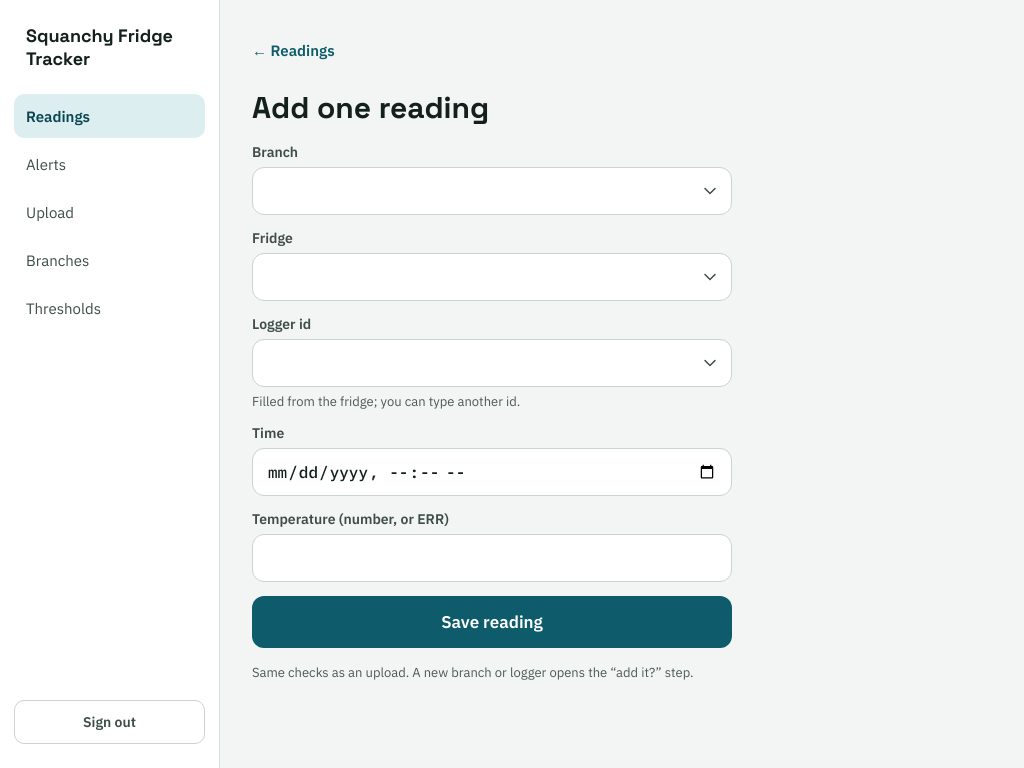
Test: SingleRecordPage › fills the logger id from the chosen fridge of the chosen branch
Expected: the heading "Add one reading" is shown, [252,88,489,127]
Type "Haifa" into the dropdown labelled "Branch". click: [492, 191]
box: [252,167,732,215]
Then press Escape
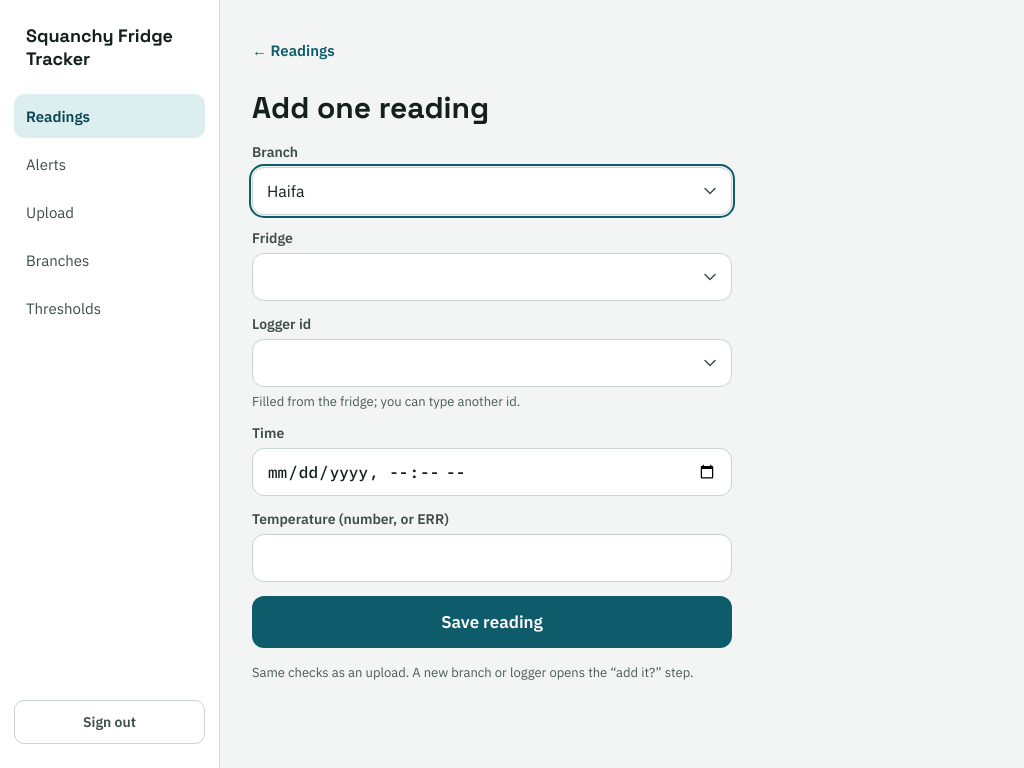
Type "Cream cakes" into the dropdown labelled "Fridge". click: [492, 277]
box: [252,253,732,301]
Then press Escape
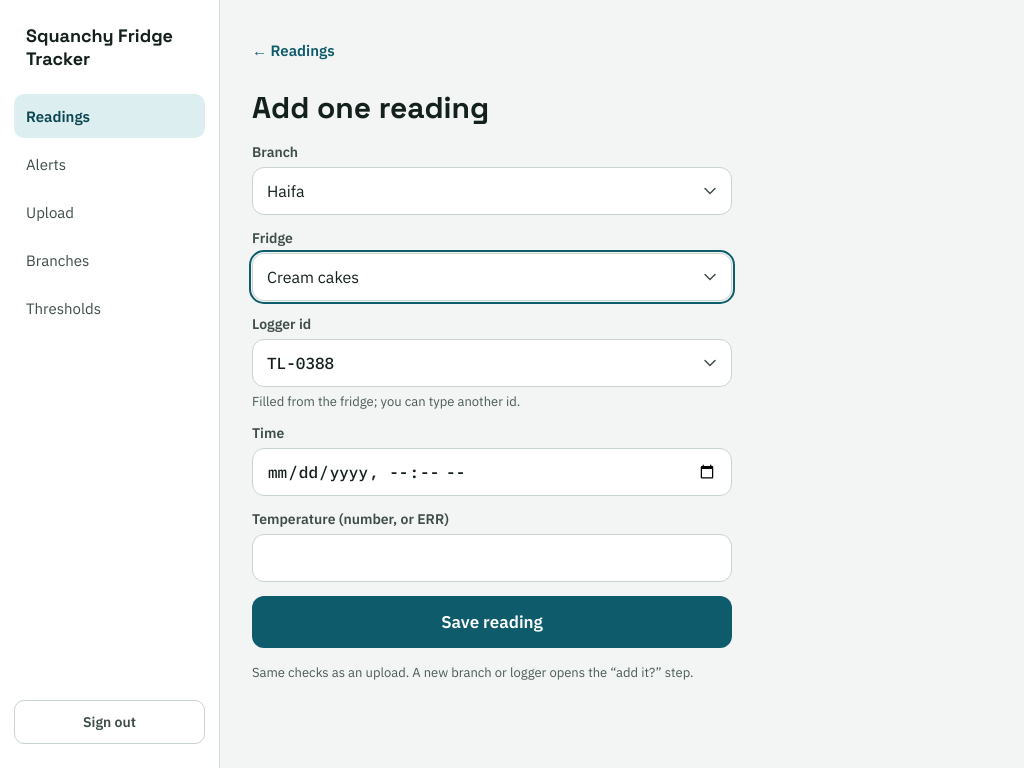
Result: the dropdown labelled "Logger id" holds "TL-0388" at [252,339,732,387]
